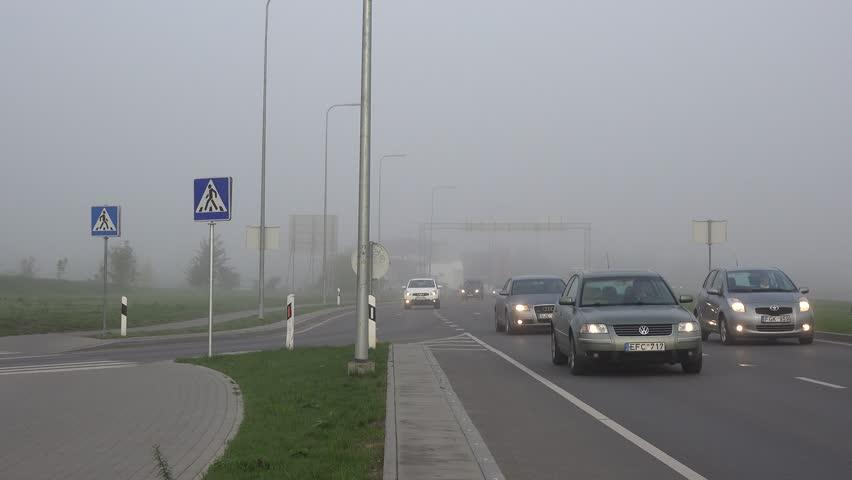car: (547, 268, 704, 375), (690, 265, 816, 345), (493, 272, 573, 335), (401, 277, 443, 309), (459, 278, 485, 301)
